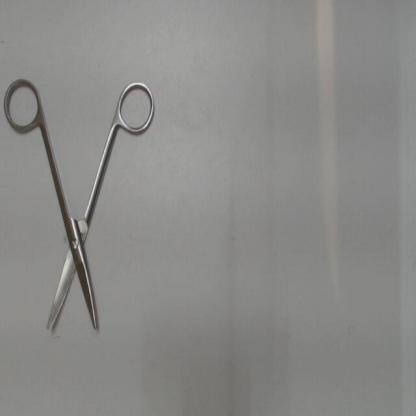Curved Mayo Scissors: (0, 72, 162, 337)
